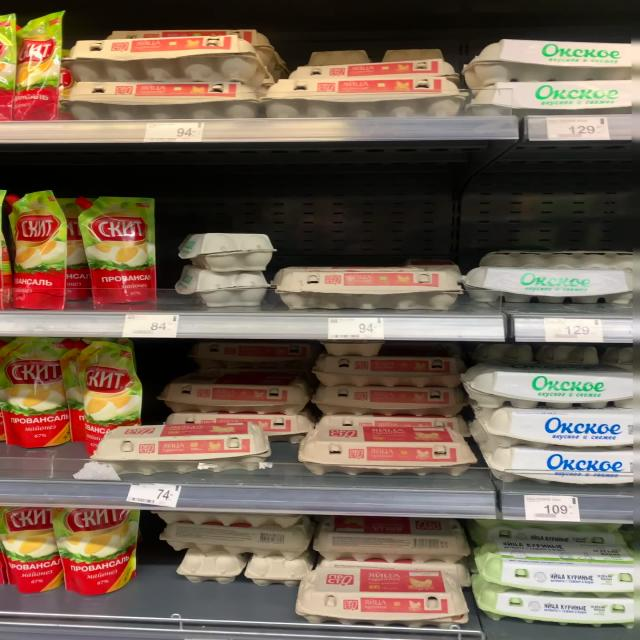egg box: (298, 412, 480, 476), (294, 558, 468, 623), (478, 524, 636, 594), (73, 190, 163, 307), (478, 428, 634, 488), (54, 36, 264, 80), (266, 72, 462, 118), (103, 418, 269, 470), (470, 395, 636, 446), (272, 264, 464, 308), (2, 336, 76, 448), (470, 579, 632, 630), (66, 338, 140, 443), (60, 78, 257, 117), (474, 254, 634, 302), (318, 510, 474, 559), (455, 361, 634, 403), (4, 184, 66, 300), (470, 34, 636, 77), (55, 505, 129, 587), (320, 348, 468, 388), (471, 78, 634, 114), (158, 403, 307, 438), (158, 370, 304, 405), (308, 384, 458, 416), (12, 14, 55, 117), (281, 56, 453, 80), (9, 503, 51, 591), (204, 332, 302, 366)
